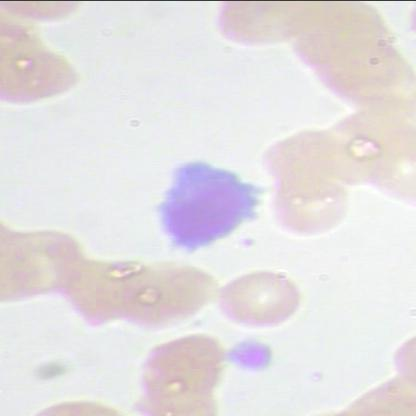Platelets: (224, 331, 288, 372)
RBC: (0, 36, 94, 113), (212, 260, 309, 334), (256, 172, 352, 246), (136, 327, 232, 401)
WBC: (151, 154, 276, 260)
